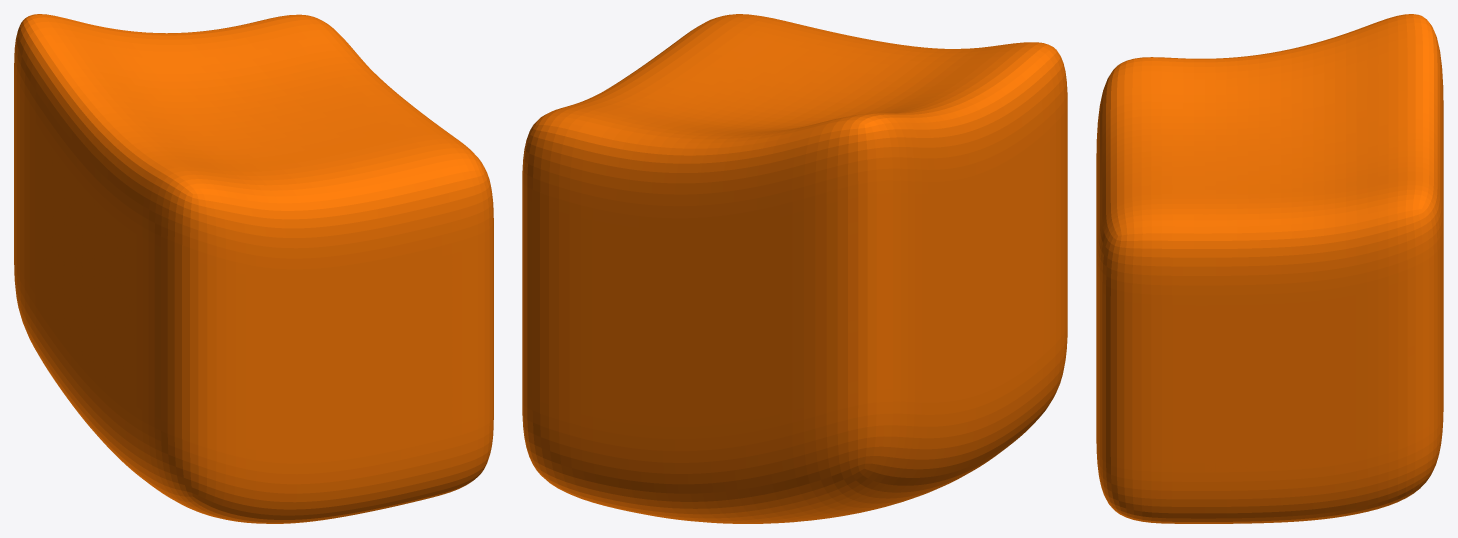
3 renders of one model, left to right at view 1: azimuth 30°, elevation 25°; view 2: azimuth 150°, elevation 25°; view 3: azimuth 270°, elevation 25°, orthographic. The views are drawn at different scales.
Parts seen in each view (by area): view 1: smooth_1_base.023; view 2: smooth_1_base.023; view 3: smooth_1_base.023.
Boxes of the visible parts, box(x1,y1,x2,y2) form: smooth_1_base.023: box(14, 14, 493, 523); smooth_1_base.023: box(522, 14, 1067, 523); smooth_1_base.023: box(1096, 14, 1443, 523).
Size of the model in its own units: 60 by 74.23 by 60.
